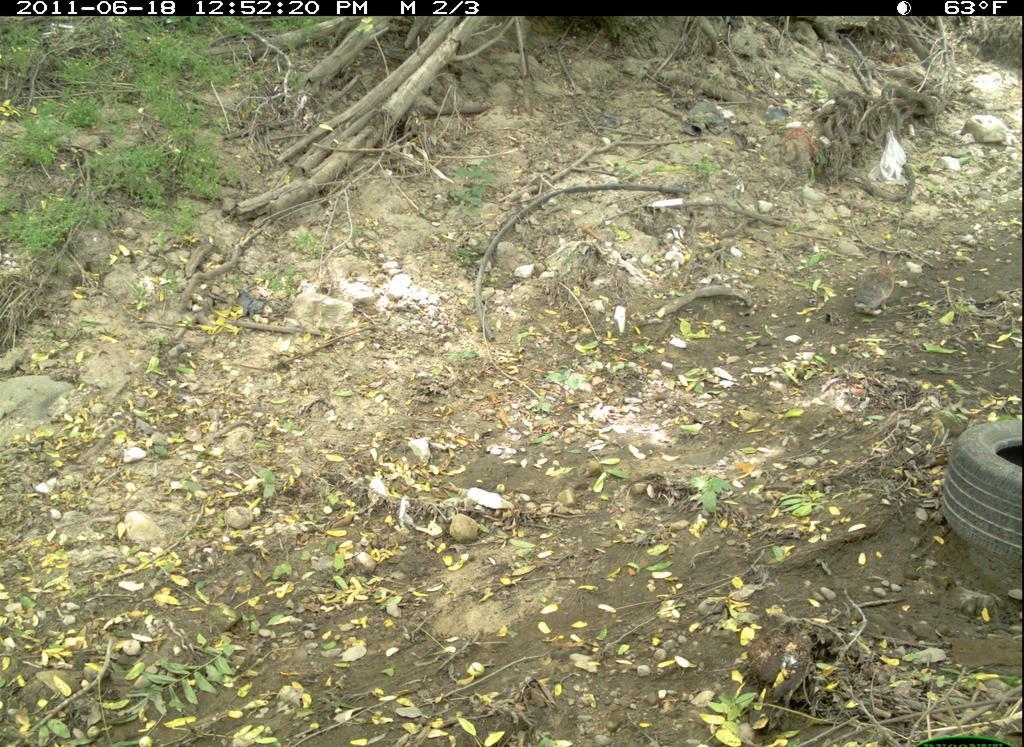rabbit: (847, 254, 905, 321)
